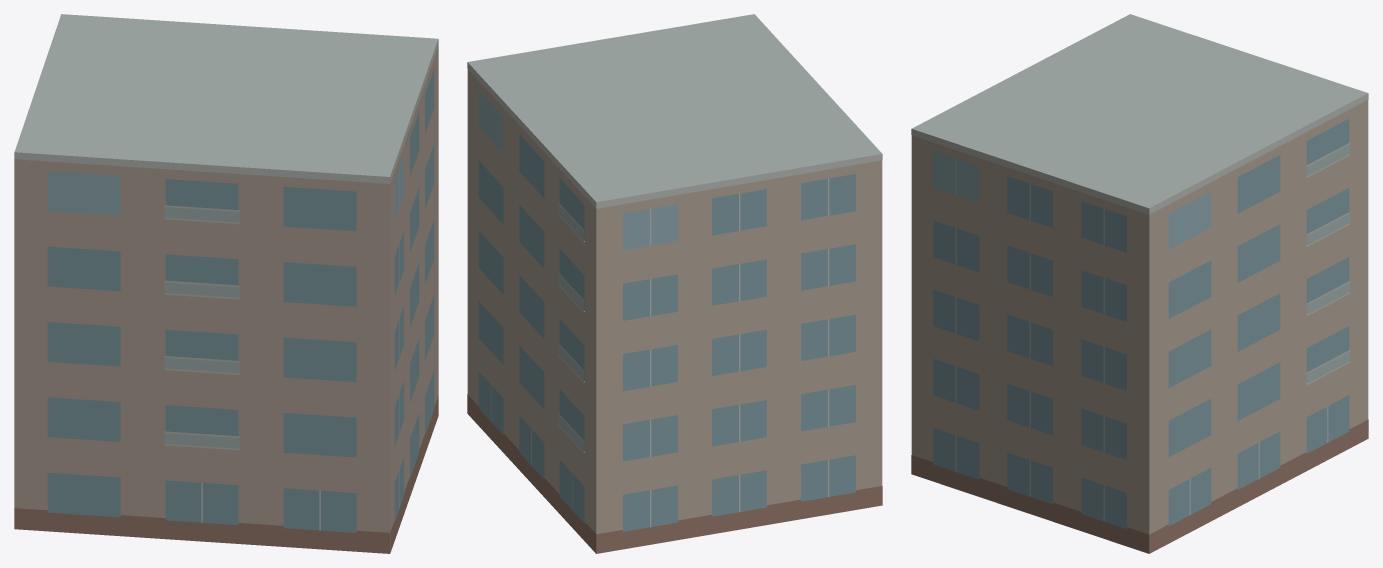
Rendered from survey-upis-32890321.glb.
3 renders of one model, left to right at view 1: azimuth 30°, elevation 25°; view 2: azimuth 150°, elevation 25°; view 3: azimuth 270°, elevation 25°, orthographic. The views are drawn at different scales.
Parts seen in each view (by area): view 1: survey-upis-32890321.tmp; view 2: survey-upis-32890321.tmp; view 3: survey-upis-32890321.tmp.
Part boxes in pixels (x1,y1,x2,y2): survey-upis-32890321.tmp: (14, 14, 438, 553); survey-upis-32890321.tmp: (467, 14, 882, 553); survey-upis-32890321.tmp: (911, 14, 1368, 553).
Bounding box in the file's own units: 15.94 × 13.2 × 15.83.
